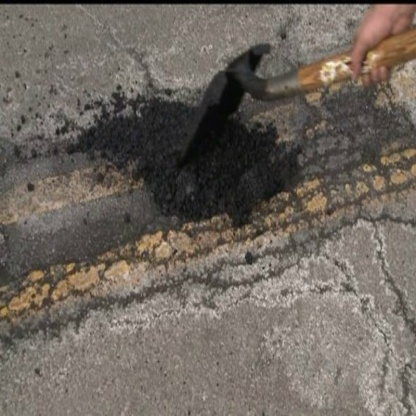pothole: (71, 87, 304, 241)
